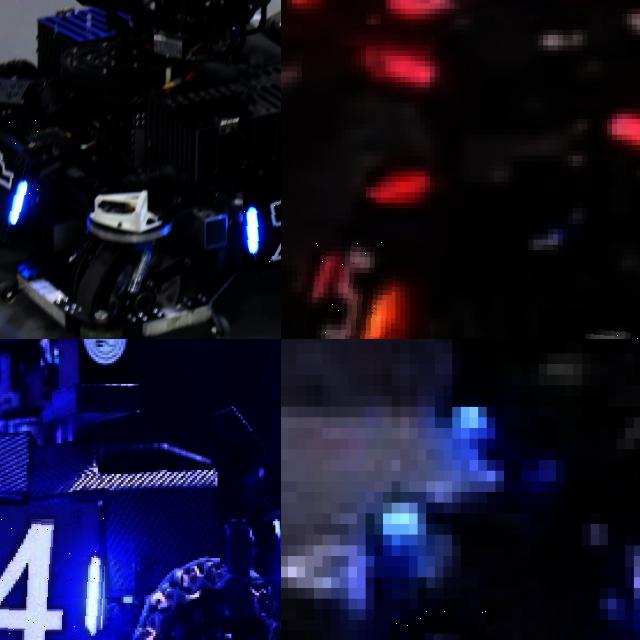B4: (0, 517, 107, 640)
B5: (365, 609, 495, 640)
Bs: (0, 116, 38, 242), (243, 164, 281, 270)
R5: (311, 239, 395, 339)
